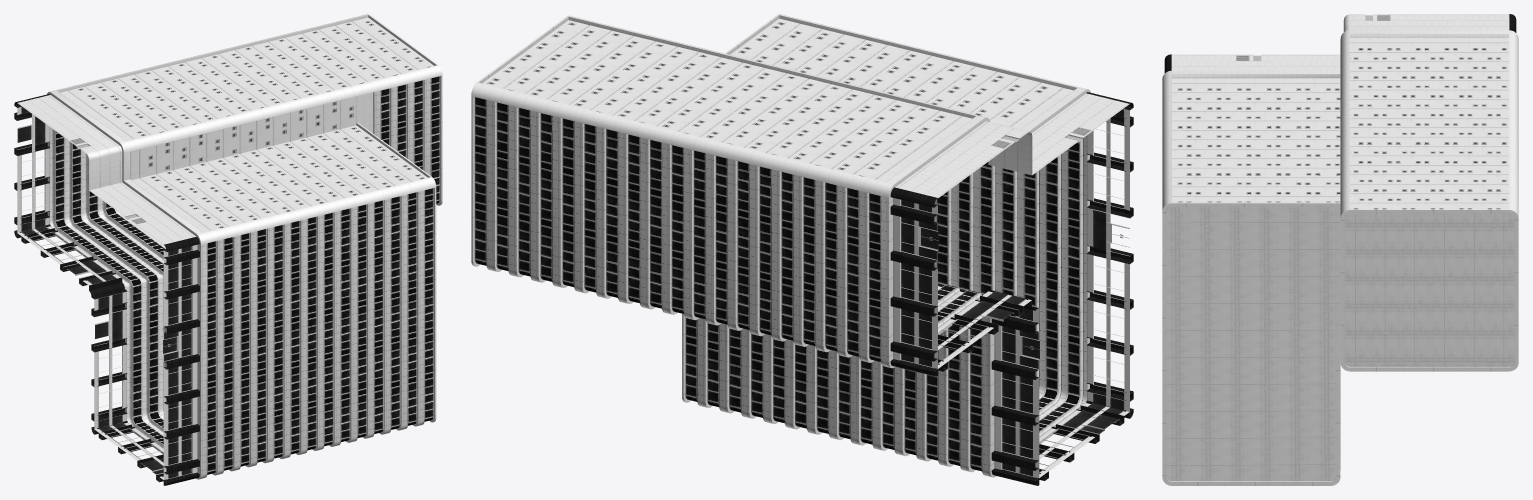
The picture shows the model from 3 angles, left to right: view 1: azimuth 30°, elevation 25°; view 2: azimuth 150°, elevation 25°; view 3: azimuth 270°, elevation 25°; orthographic projection. The views are drawn at different scales.
Parts seen in each view (by area): view 1: S_C_01_04_F.002, S_C_01_04_S.003, S_C_01_04_F.003, S_C_01_04_S.001, S_C_01_04_F.004; view 2: S_C_01_04_F.002, S_C_01_04_S.003, S_C_01_04_S.001, S_C_01_04_F.003; view 3: S_C_01_04_F.002, S_C_01_04_R.001, S_C_01_04_R2.001, S_C_01_04_F.003, S_C_01_04_S.003.
Part boxes in pixels (left/top/right/bottom): S_C_01_04_F.002: left=50, top=14, right=441, bottom=479; S_C_01_04_S.003: left=14, top=94, right=199, bottom=485; S_C_01_04_F.003: left=356, top=14, right=442, bottom=422; S_C_01_04_S.001: left=47, top=92, right=200, bottom=479; S_C_01_04_F.004: left=356, top=92, right=372, bottom=132; S_C_01_04_F.002: left=473, top=14, right=1087, bottom=477; S_C_01_04_S.003: left=890, top=92, right=1133, bottom=485; S_C_01_04_S.001: left=889, top=89, right=1090, bottom=477; S_C_01_04_F.003: left=471, top=14, right=780, bottom=402; S_C_01_04_F.002: left=1162, top=30, right=1518, bottom=470; S_C_01_04_R.001: left=1166, top=207, right=1340, bottom=481; S_C_01_04_R2.001: left=1345, top=214, right=1514, bottom=366; S_C_01_04_F.003: left=1162, top=202, right=1518, bottom=485; S_C_01_04_S.003: left=1164, top=14, right=1516, bottom=73.
Bounding box in the file's own units: 80.96 × 61.44 × 61.44.
